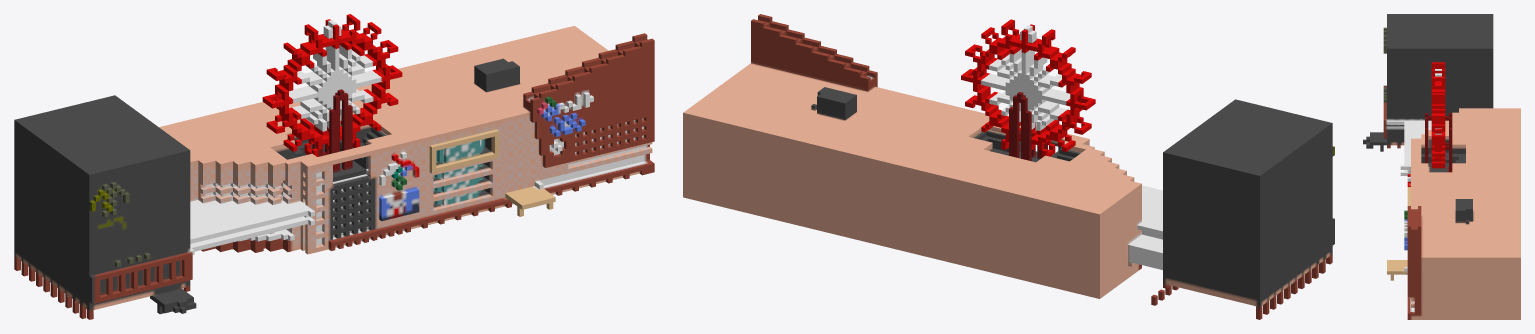
Rendered from amu.glb.
3 views of the same model, side by side, from view 1: azimuth 30°, elevation 25°; view 2: azimuth 150°, elevation 25°; view 3: azimuth 270°, elevation 25° (orthographic). The views are drawn at different scales.
Parts seen in each view (by area): view 1: amu-amu, amu-amuran; view 2: amu-amu, amu-amuran; view 3: amu-amu, amu-amuran.
Boxes of the visible parts, bbox=[...] form: amu-amu: bbox=[14, 26, 654, 319]; amu-amuran: bbox=[262, 14, 402, 156]; amu-amu: bbox=[683, 14, 1334, 319]; amu-amuran: bbox=[961, 19, 1095, 157]; amu-amu: bbox=[1363, 14, 1520, 319]; amu-amuran: bbox=[1431, 62, 1445, 168].
Size of the model in its own units: 13.8 by 4.71 by 4.6.
Materials: 3 (3 with a texture image).
